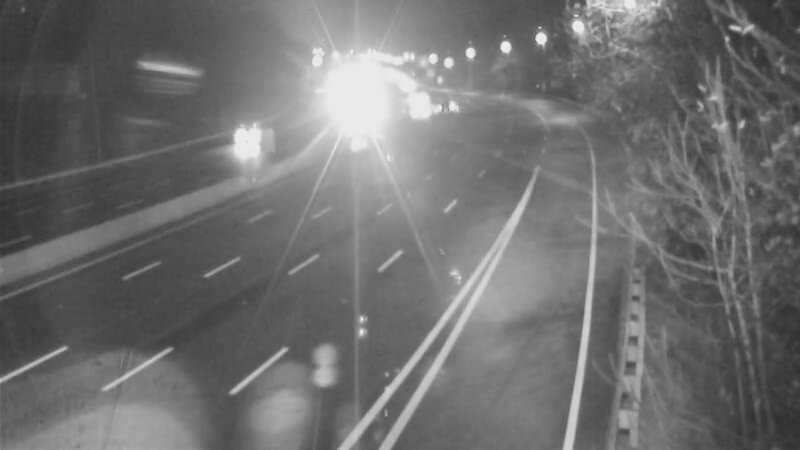vehicle: (391, 75, 441, 125), (423, 82, 473, 132), (401, 87, 451, 137), (222, 114, 272, 164)
